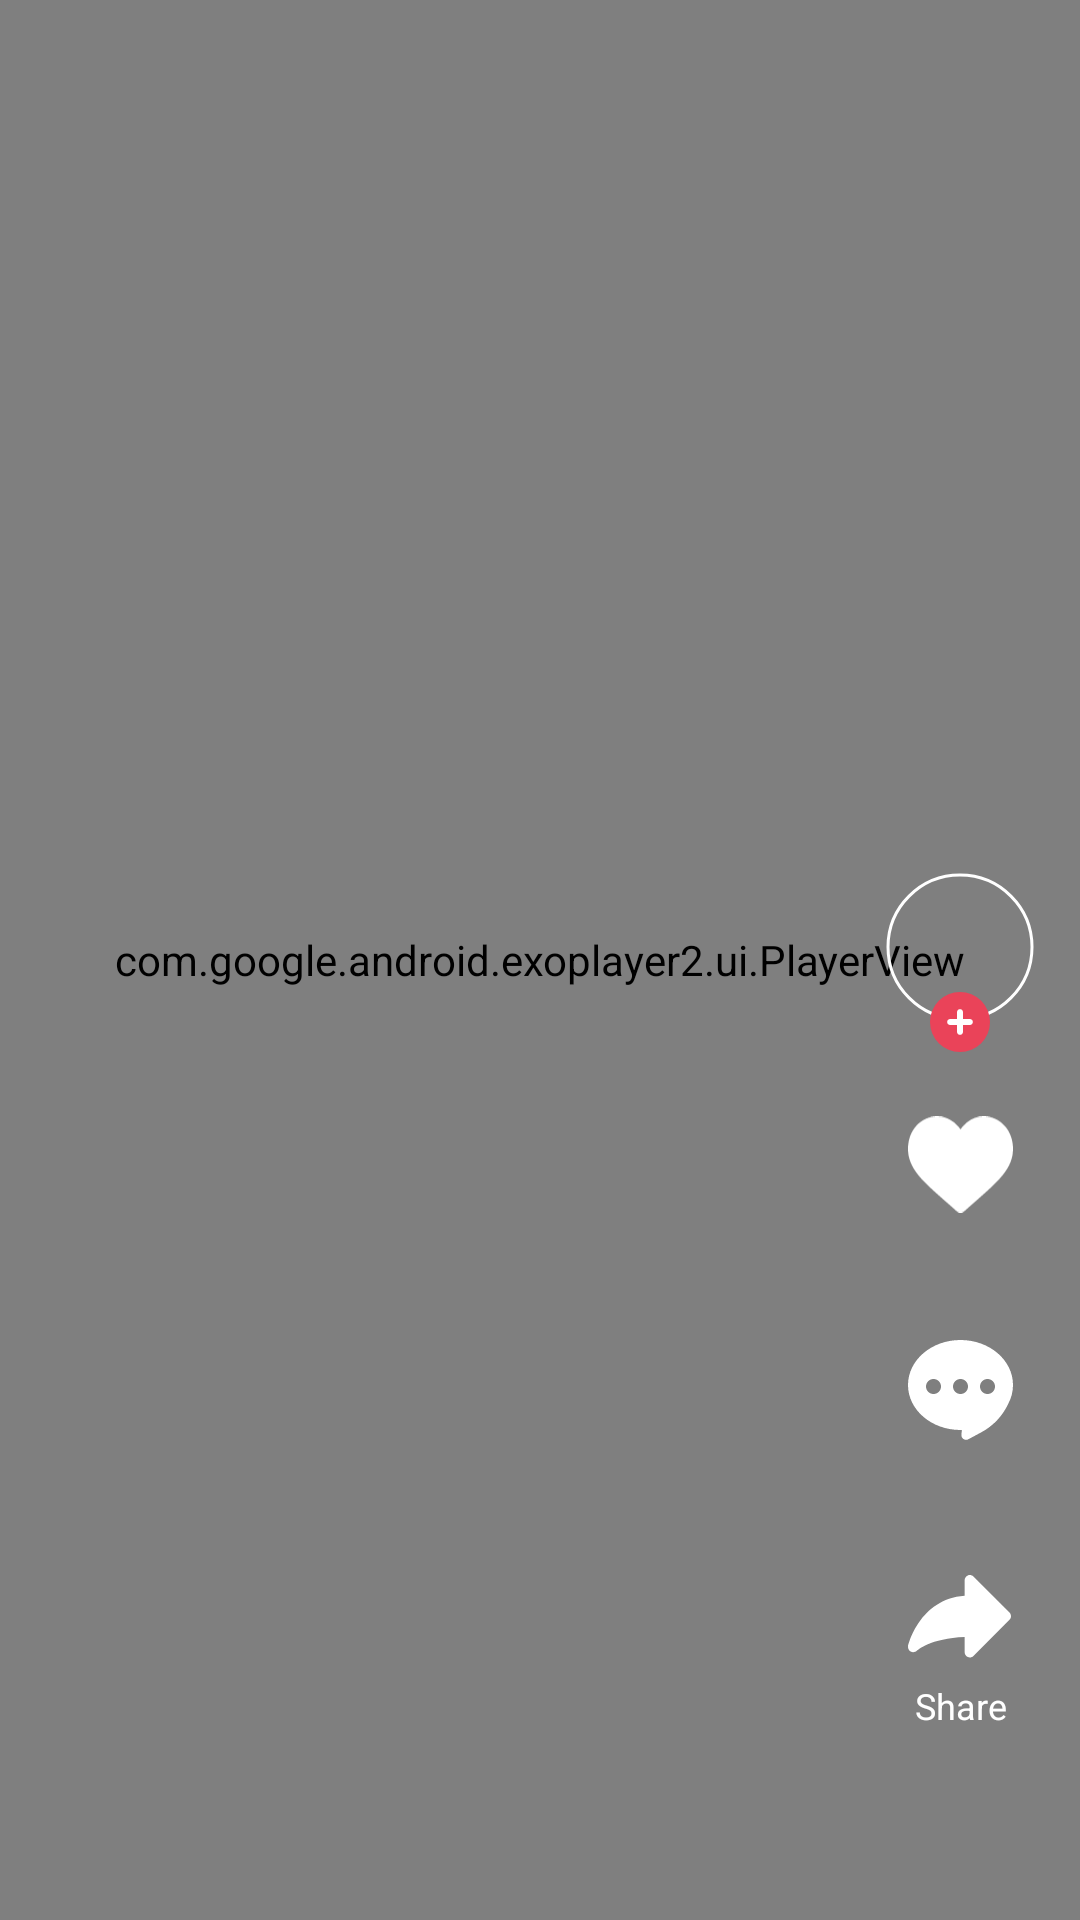

Named icons in this screenshot (1080w x 1920h) and their centers, point (x, y):
heart: point (960, 1164)
message: point (960, 1390)
